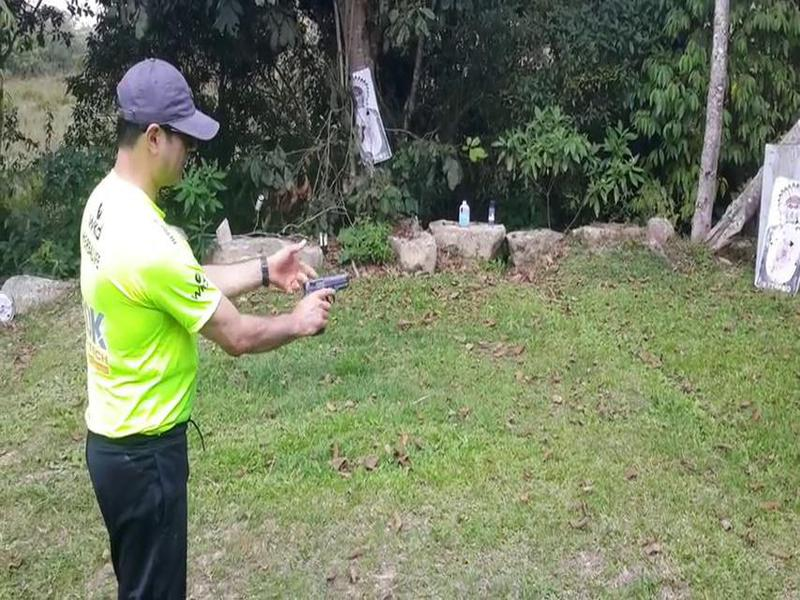Pistola: (288, 268, 367, 331)
